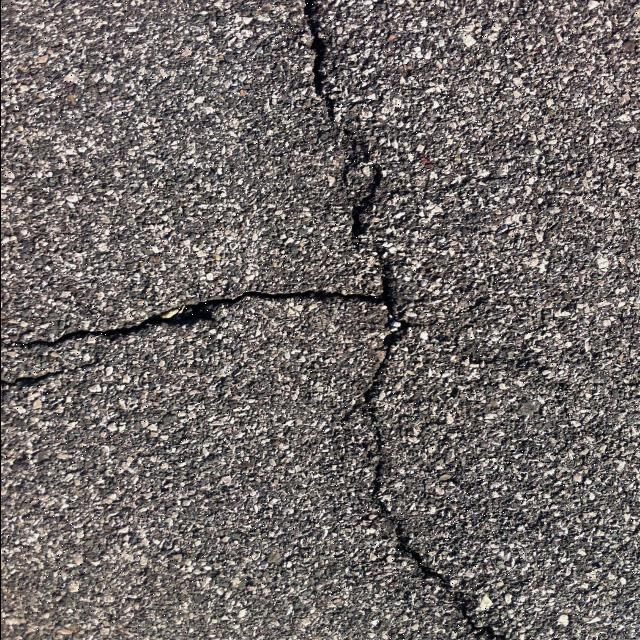Crack: (0, 0, 518, 640), (0, 363, 93, 389)
